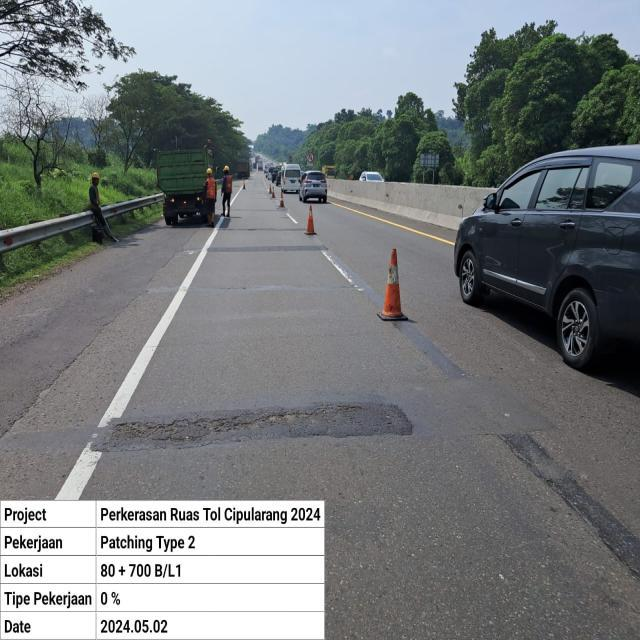Buraco: (108, 410, 314, 444)
